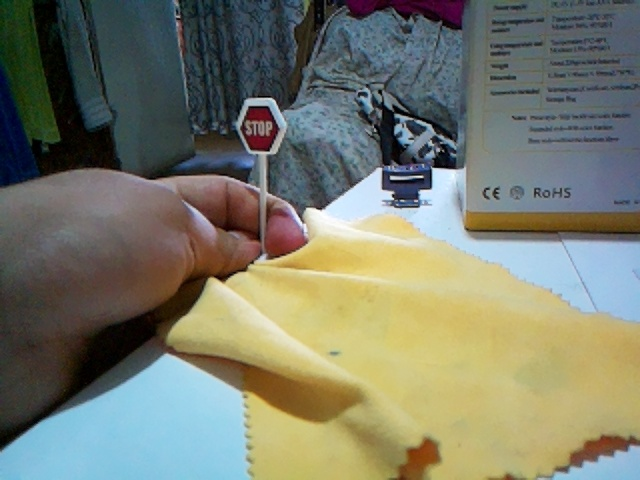stop_sign: (236, 97, 286, 152)
